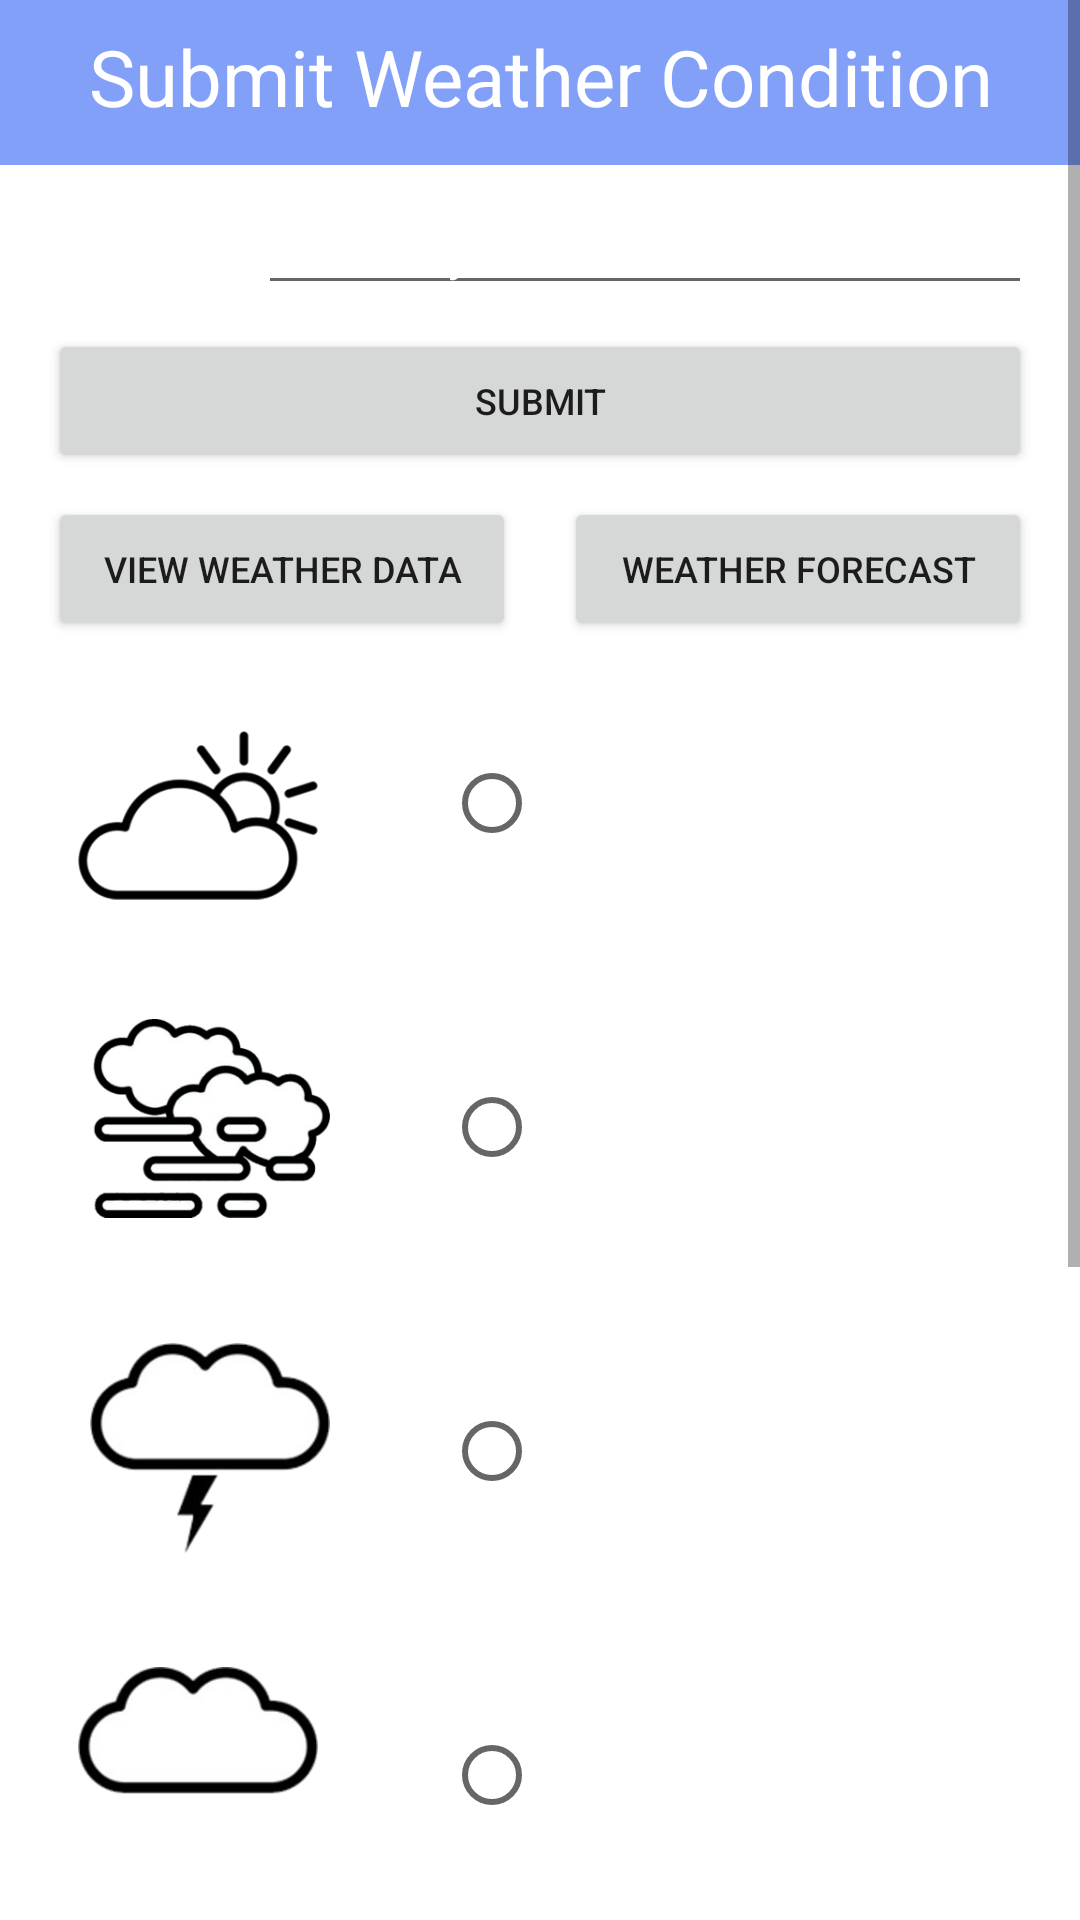

Locate icon controls on the screen. Image size 1080x1920, boxes as {"left": x1, "top": y1, "right": x2, "bottom": y2}.
partial cloud: {"left": 78, "top": 731, "right": 318, "bottom": 900}
